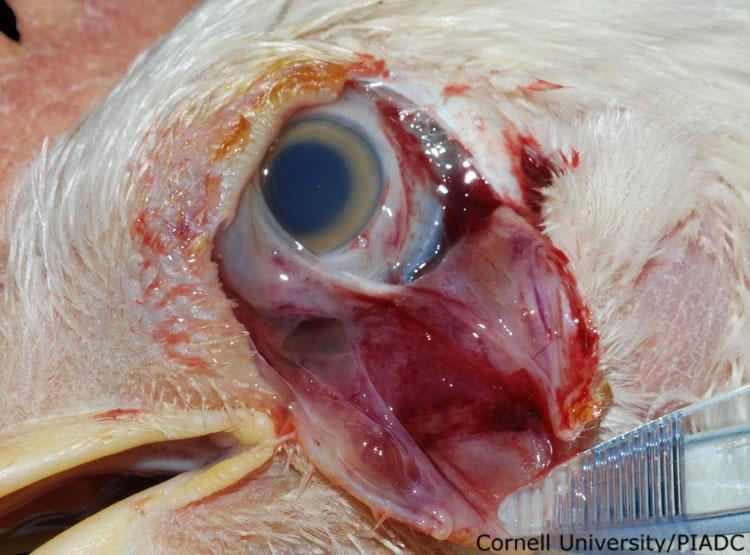AbNormal: (1, 0, 750, 544)
